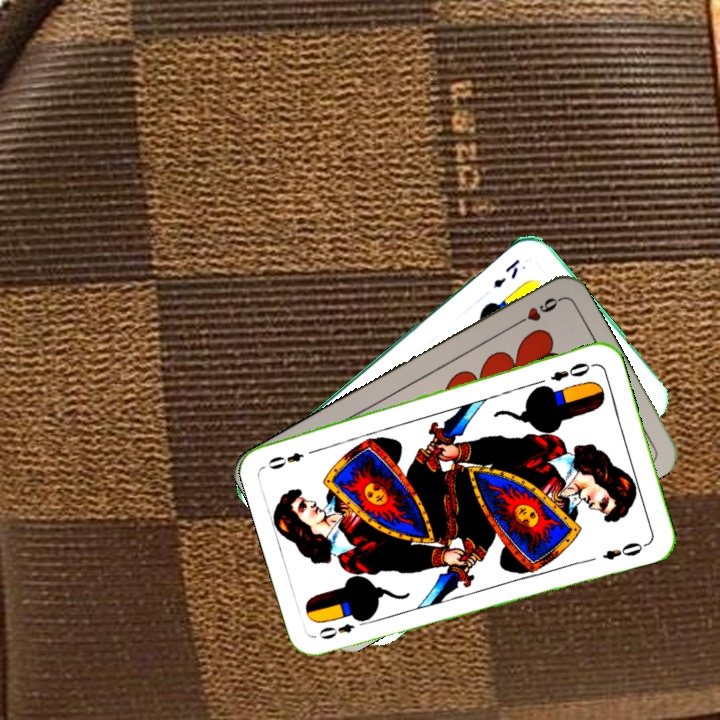EK: (489, 255, 522, 291)
EO: (314, 614, 372, 642), (547, 358, 598, 384)
H9: (509, 293, 563, 330)
